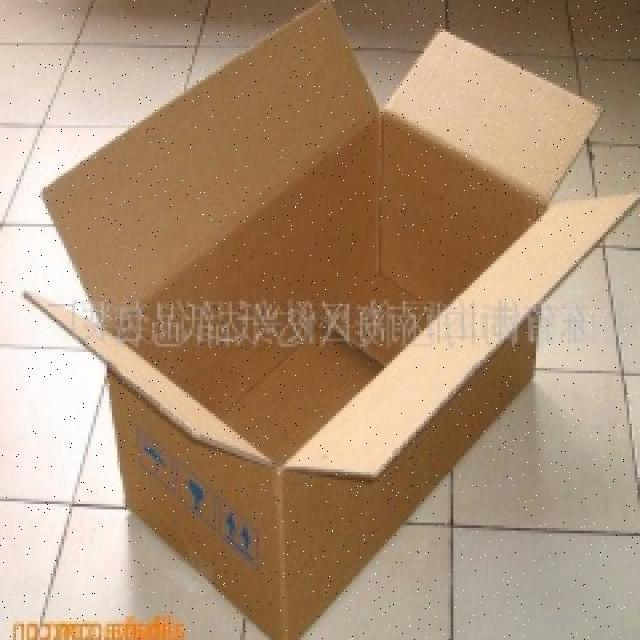box: (61, 14, 640, 614)
